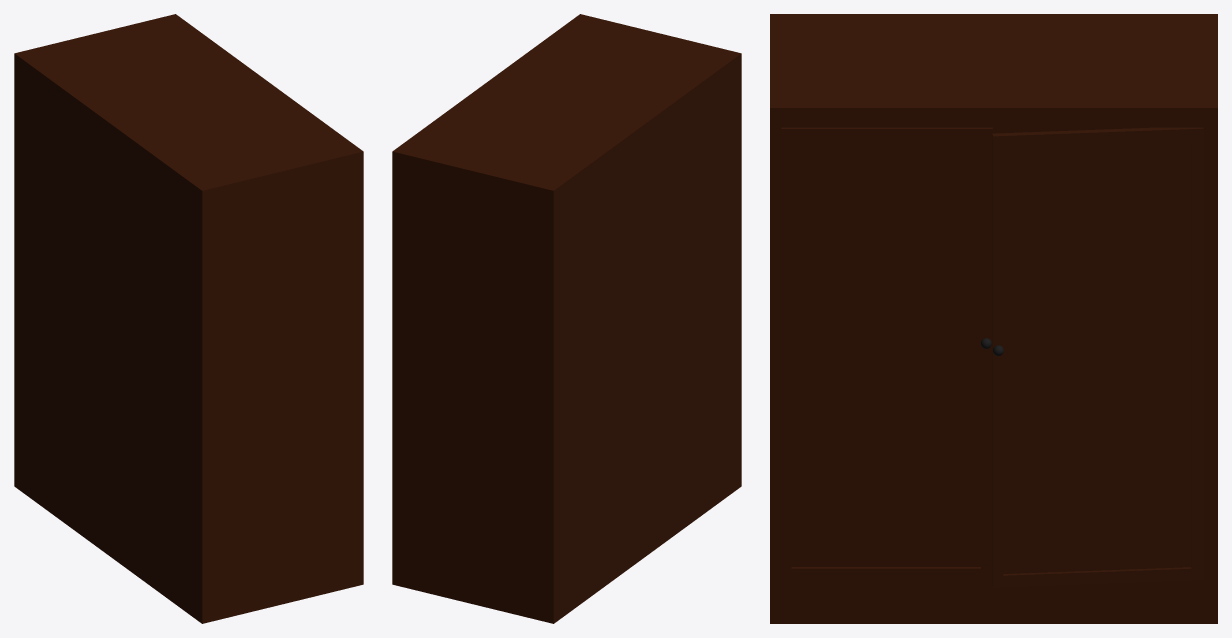
The model's file is Cupboard.FBX.
3 views of the same model, side by side, from view 1: azimuth 30°, elevation 25°; view 2: azimuth 150°, elevation 25°; view 3: azimuth 270°, elevation 25° (orthographic). The views are drawn at different scales.
Parts seen in each view (by area): view 1: Cupboard; view 2: Cupboard; view 3: Cupboard_RightDoor, Cupboard_LeftDoor, Cupboard.
Part boxes in pixels (x1=…): Cupboard: x1=14, y1=14, x2=363, y2=623; Cupboard: x1=392, y1=14, x2=741, y2=623; Cupboard_RightDoor: x1=992, y1=127, x2=1203, y2=587; Cupboard_LeftDoor: x1=781, y1=127, x2=992, y2=580; Cupboard: x1=770, y1=14, x2=1217, y2=623.
Size of the model in its own units: 35.32 by 80.38 by 63.19.
